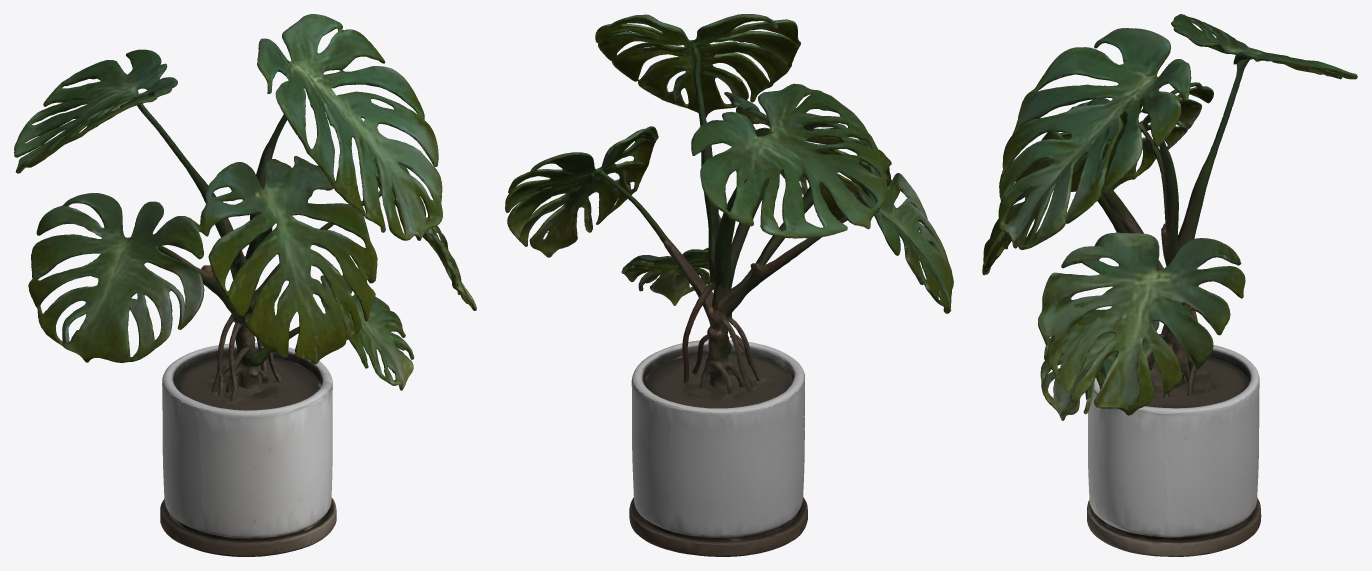
Rendered from L_PLANT_BIG.glb.
The picture shows the model from 3 angles, left to right: view 1: azimuth 30°, elevation 25°; view 2: azimuth 150°, elevation 25°; view 3: azimuth 270°, elevation 25°; orthographic projection.
Visible parts, largest first — view 1: world; view 2: world; view 3: world.
Part boxes in pixels (left/top/right/bottom): world: left=14, top=14, right=476, bottom=556; world: left=505, top=14, right=953, bottom=556; world: left=982, top=14, right=1357, bottom=556.
Bounding box in the file's own units: 0.7588 × 0.85 × 0.5904.
Materials: 1 (1 with a texture image).
